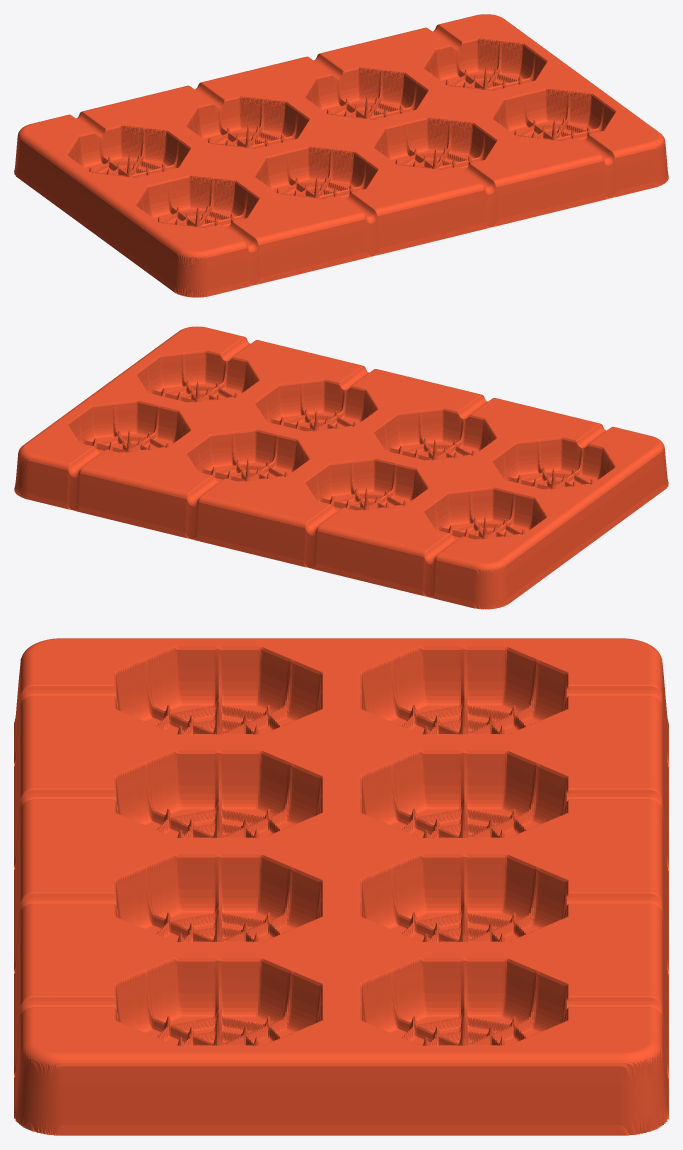
The model's file is mold.glb.
3 renders of one model, top to bottom at view 1: azimuth 30°, elevation 25°; view 2: azimuth 150°, elevation 25°; view 3: azimuth 270°, elevation 25°, orthographic. The views are drawn at different scales.
Parts seen in each view (by area): view 1: geometry_0; view 2: geometry_0; view 3: geometry_0.
Part boxes in pixels (x1=…): geometry_0: x1=14, y1=14, x2=668, y2=297; geometry_0: x1=14, y1=326, x2=668, y2=609; geometry_0: x1=14, y1=638, x2=668, y2=1135.
Size of the model in its own units: 0.1907 by 0.0155 by 0.1229.
